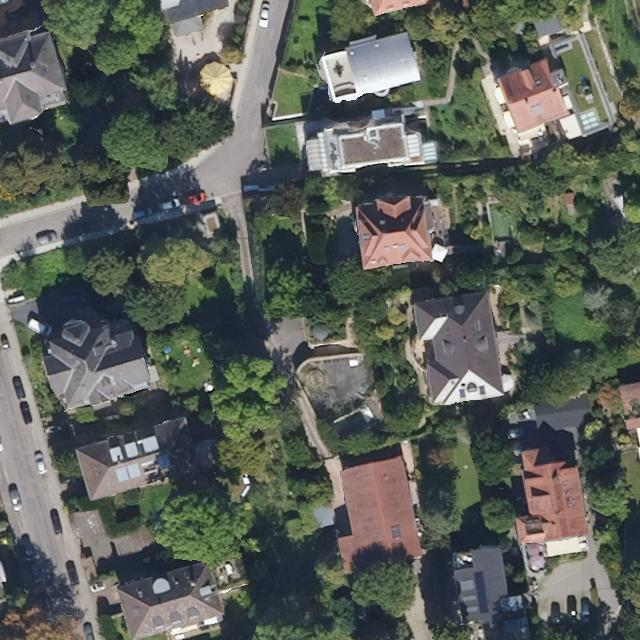PV: (472, 570, 490, 614)
